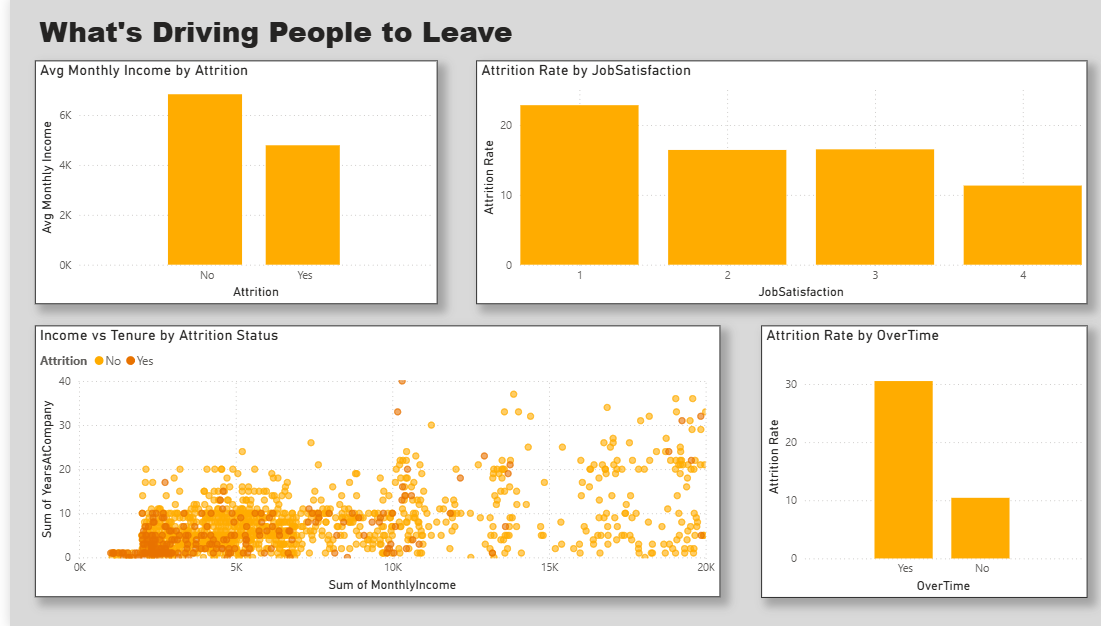

The page's visual inventory and layout, read from the dashboard file:
{"tool":"powerbi","page":{"name":"Drivers of Attrition","canvas":[1280,720],"ordinal":2},"visuals":[{"type":"clusteredColumnChart","fields":{"Category":["hrdata.Attrition"],"Y":["hrdata.Avg Monthly Income"]},"box":[28.6,71.4,460,278.6],"z":0},{"type":"scatterChart","title":"Income vs Tenure by Attrition Status","fields":{"X":["Sum(hrdata.MonthlyIncome)"],"Y":["Sum(hrdata.YearsAtCompany)"],"Series":["hrdata.Attrition"],"Category":["hrdata.EmployeeNumber"]},"box":[28.6,374.3,782.9,310],"z":1000},{"type":"clusteredColumnChart","fields":{"Category":["hrdata.JobSatisfaction"],"Y":["hrdata.Attrition Rate"]},"box":[532.9,71.4,698.6,278.6],"z":2000},{"type":"columnChart","fields":{"Category":["hrdata.OverTime"],"Y":["hrdata.Attrition Rate"]},"box":[858.6,374.3,372.9,311.4],"z":3000},{"type":"textbox","box":[28.6,10,1014.3,61.4],"z":3001}]}

Visuals, with their boxes in screenshot pixels (x1, y1, x2, y2), scaled from the page's 1280x720 canvas onto the 1101x626 screenshot:
clusteredColumnChart - hrdata.Attrition x hrdata.Avg Monthly Income: (left=25, top=62, right=420, bottom=304)
"Income vs Tenure by Attrition Status" scatterChart: (left=25, top=325, right=698, bottom=595)
clusteredColumnChart - hrdata.JobSatisfaction x hrdata.Attrition Rate: (left=458, top=62, right=1059, bottom=304)
columnChart - hrdata.OverTime x hrdata.Attrition Rate: (left=739, top=325, right=1059, bottom=596)
textbox: (left=25, top=9, right=897, bottom=62)
